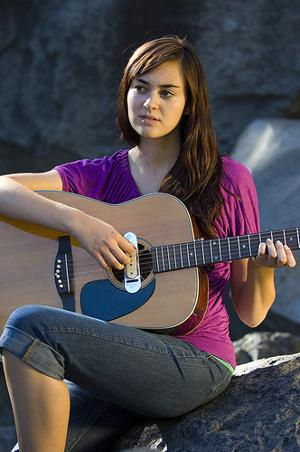person: (2, 37, 296, 452)
